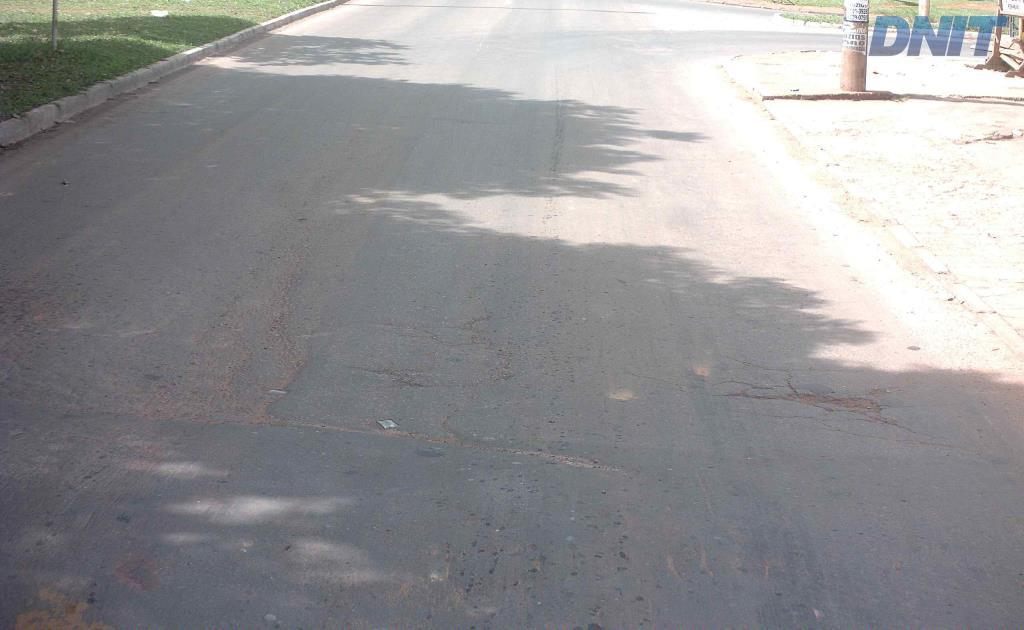crack: (711, 375, 900, 427)
pothole: (704, 368, 920, 431)
